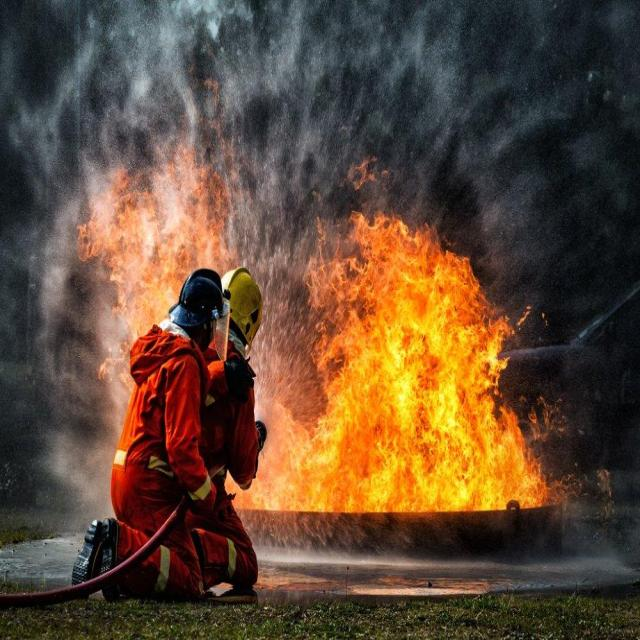Fire: (45, 131, 574, 542)
